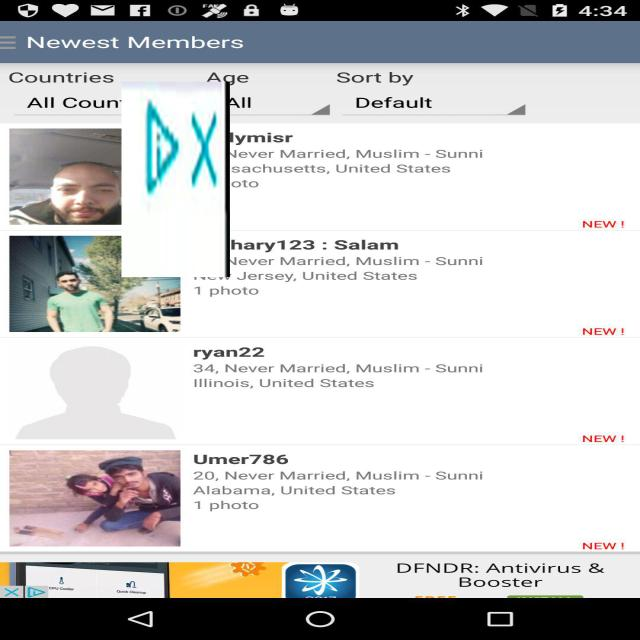sneaking: (121, 82, 230, 277)
